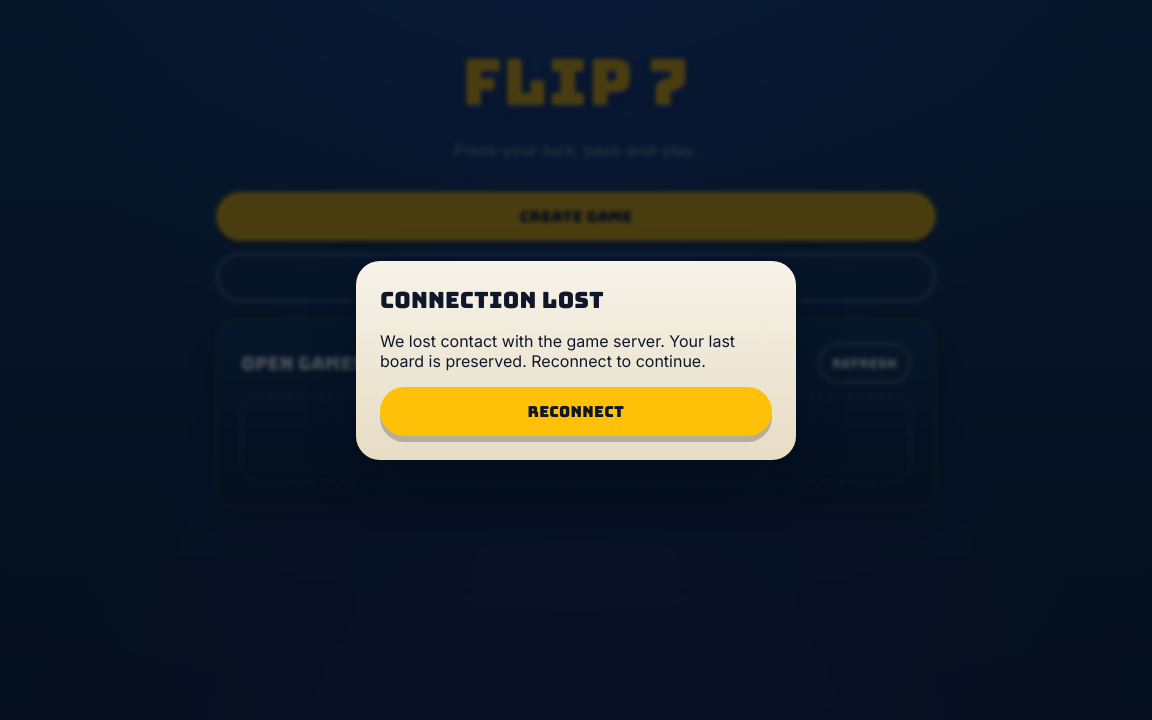
Test case: Frontend app functional behavior › shows disconnect modal on network error and retries successfully
Check: the dialog "Connection lost" is shown, box x1=356 y1=260 x2=796 y2=460
Step 1. Click the button "Reconnect" → (576, 411), box x1=380 y1=386 x2=772 y2=436
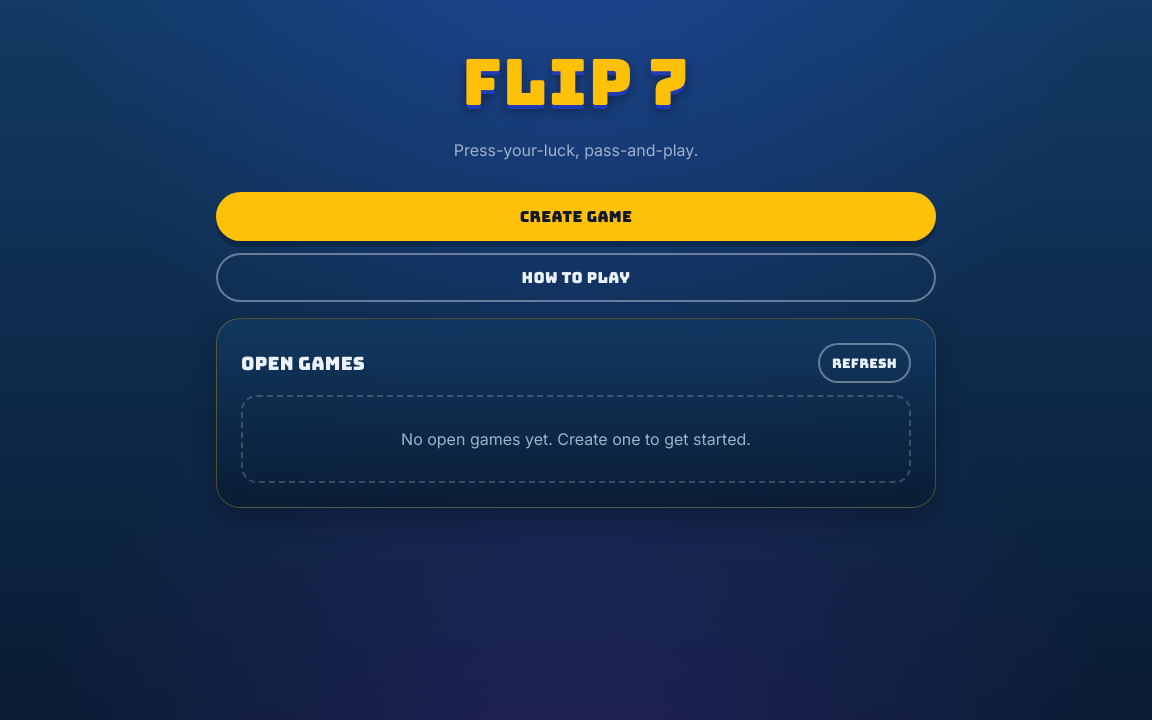
Check: the button "Create game" is shown, box x1=216 y1=192 x2=936 y2=241
Check: the heading "Connection lost" is gone
